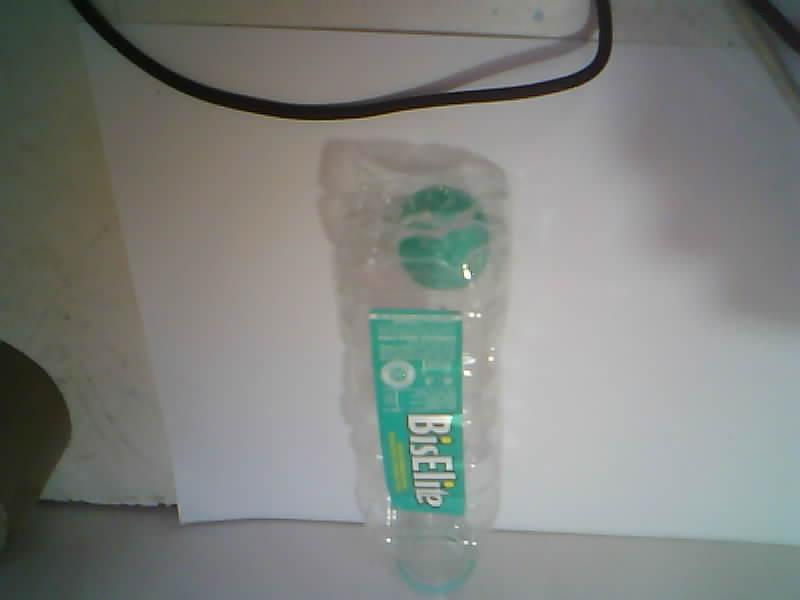non-biodegradable: (327, 148, 508, 594)
